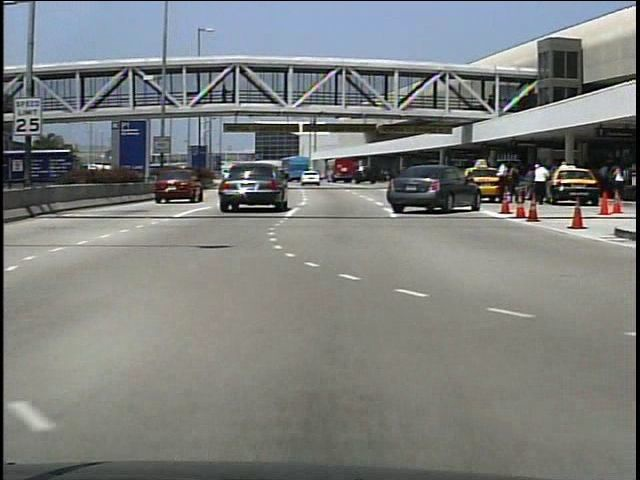person: (528, 158, 551, 205), (493, 161, 512, 204), (531, 160, 548, 203), (220, 85, 230, 107)
